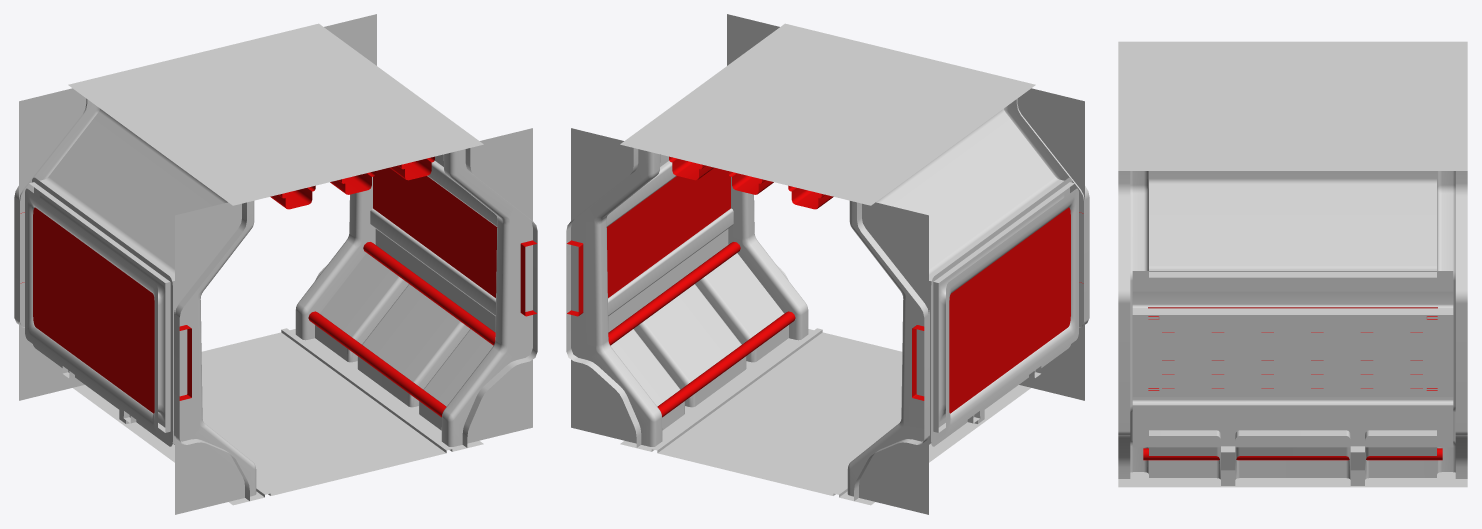
Rendered from gang_mit_fenster.fbx.
3 views of the same model, side by side, from view 1: azimuth 30°, elevation 25°; view 2: azimuth 150°, elevation 25°; view 3: azimuth 270°, elevation 25° (orthographic). The views are drawn at different scales.
Visible parts, largest first — view 1: gang_mit_fenster; view 2: gang_mit_fenster; view 3: gang_mit_fenster.
Boxes of the visible parts, left/top/right/bottom form: gang_mit_fenster: left=14, top=14, right=537, bottom=514; gang_mit_fenster: left=566, top=14, right=1089, bottom=514; gang_mit_fenster: left=1118, top=41, right=1467, bottom=487.
Bounding box in the file's own units: 5.09 × 4 × 4.
